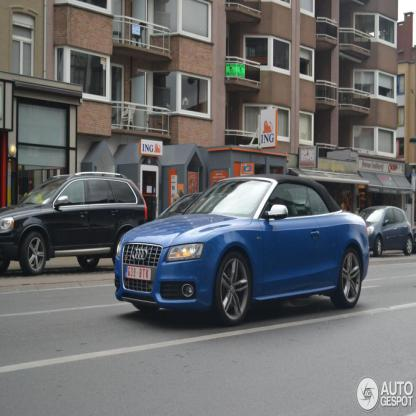Vehicle: (113, 173, 372, 329)
